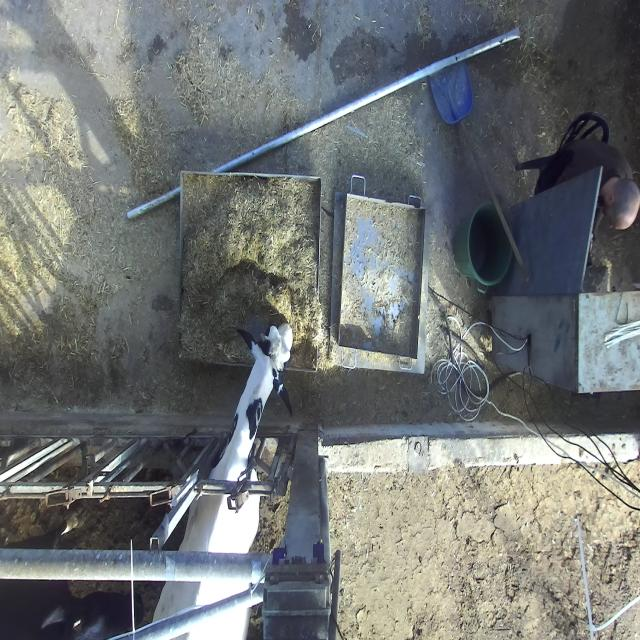cow: (237, 318, 294, 418)
